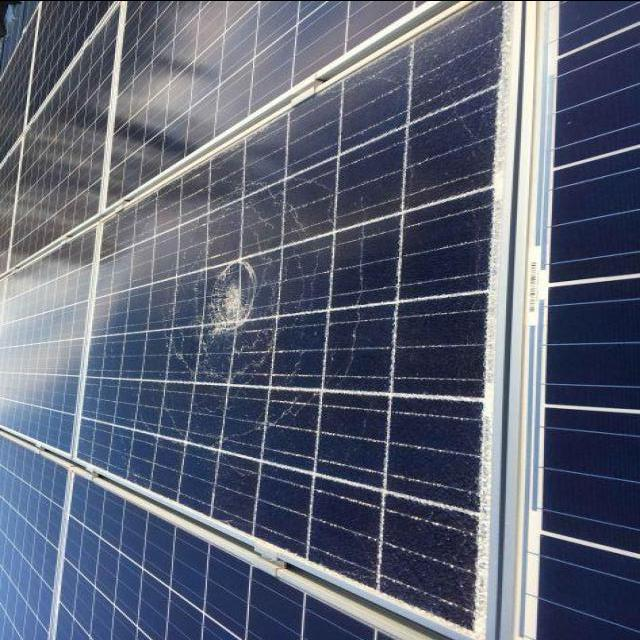cracked: (82, 29, 504, 632)
